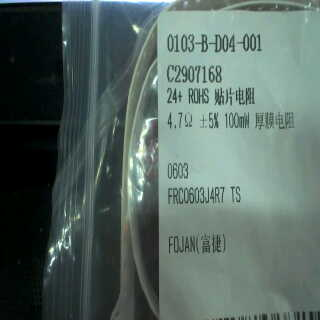4.7R: (162, 111, 199, 129)
